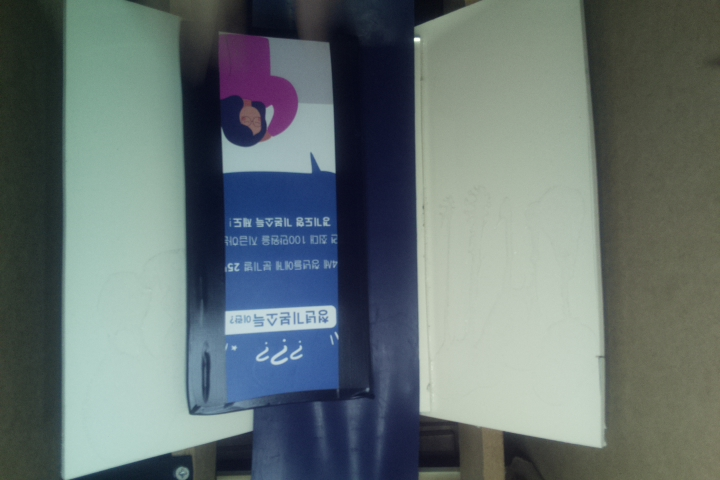book: (184, 24, 375, 416)
